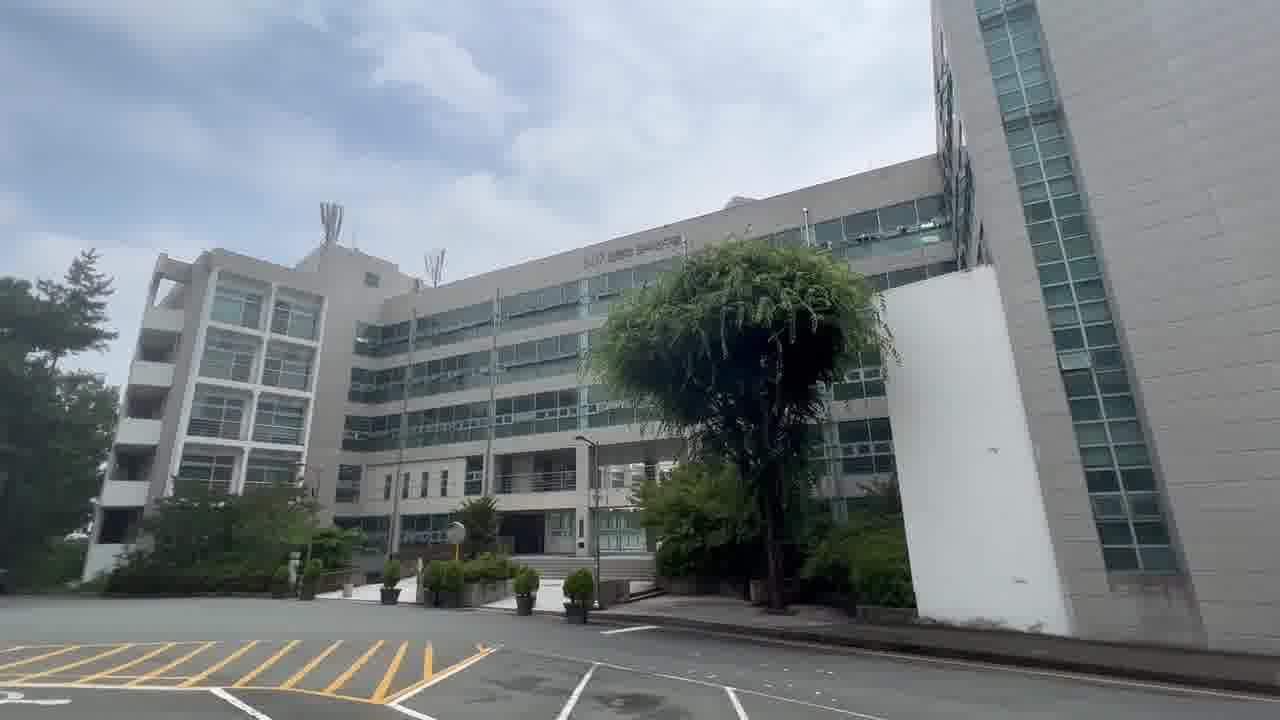low: (133, 202, 608, 499)
